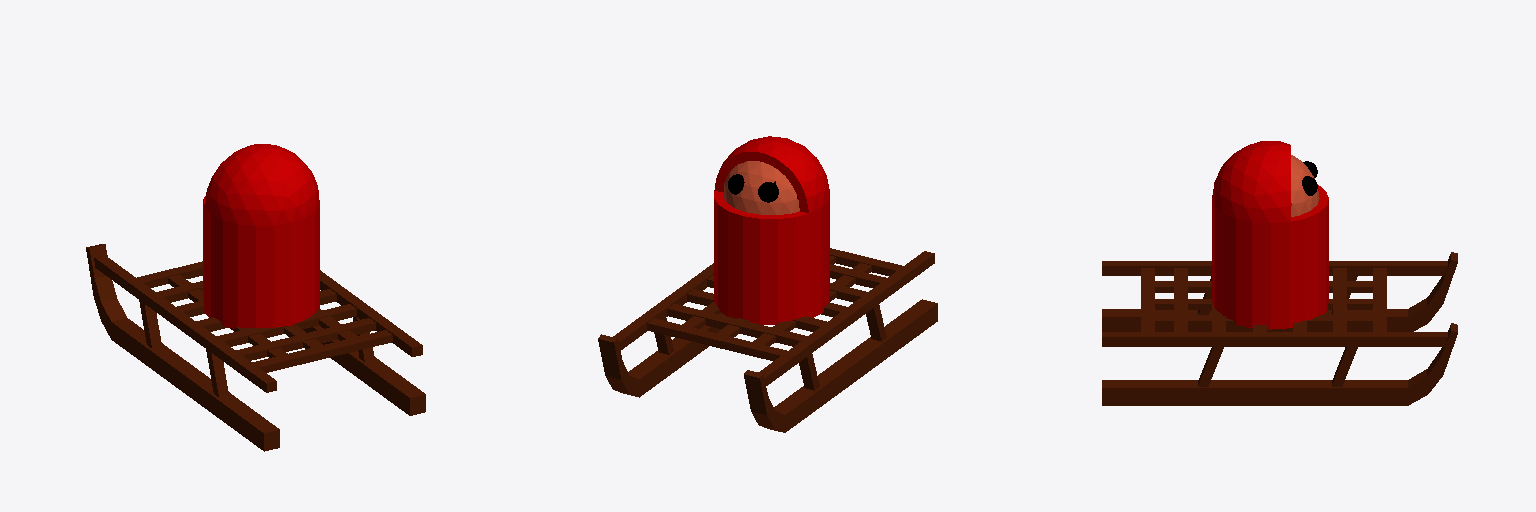
File: player.obj
The picture shows the model from 3 angles: view 1: azimuth 30°, elevation 25°; view 2: azimuth 150°, elevation 25°; view 3: azimuth 270°, elevation 25°; orthographic projection.
Parts seen in each view (by area): view 1: luge, tuque; view 2: luge, tuque, cisage, oeil; view 3: luge, tuque, cisage.
Part boxes in pixels (bbox=[...]): luge: bbox=[86, 244, 425, 451]; tuque: bbox=[203, 144, 319, 328]; luge: bbox=[598, 248, 937, 432]; tuque: bbox=[714, 136, 829, 324]; cisage: bbox=[723, 161, 799, 214]; oeil: bbox=[728, 174, 797, 202]; luge: bbox=[1102, 252, 1457, 405]; tuque: bbox=[1212, 141, 1328, 329]; cisage: bbox=[1291, 155, 1319, 216].
Bounding box in the file's own units: 1.22 × 1.6 × 2.33.